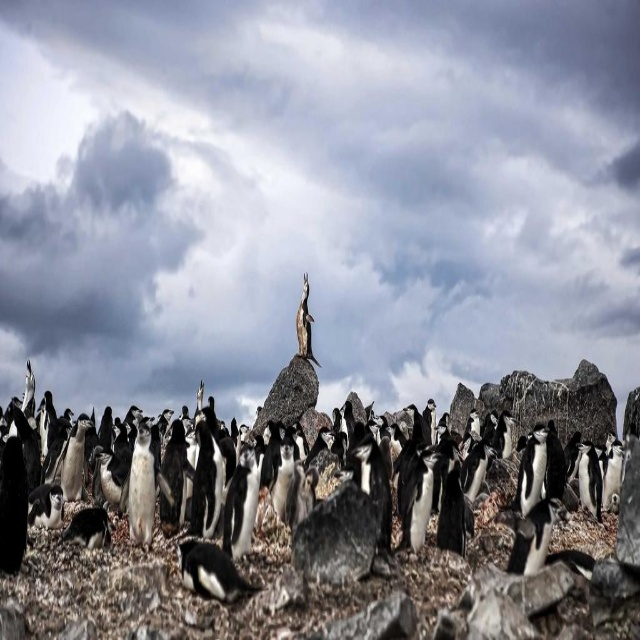Penguin: (171, 529, 255, 605), (350, 422, 392, 547), (131, 416, 172, 544), (518, 430, 560, 551), (156, 407, 192, 538), (0, 416, 29, 577), (184, 422, 224, 533), (223, 435, 258, 557), (438, 458, 476, 559), (398, 444, 433, 550), (57, 407, 90, 491), (295, 267, 320, 367), (271, 430, 297, 525), (287, 459, 316, 525), (580, 447, 602, 525), (601, 444, 625, 512), (38, 385, 60, 459), (331, 397, 356, 455), (97, 443, 120, 499), (45, 409, 69, 458), (406, 398, 426, 449), (469, 440, 487, 495), (257, 434, 274, 491), (97, 401, 114, 454), (435, 417, 452, 469), (560, 434, 579, 479), (498, 404, 511, 461), (21, 361, 37, 406), (203, 393, 218, 440), (422, 398, 433, 456), (388, 419, 402, 462), (484, 410, 498, 443), (376, 413, 388, 451), (466, 409, 480, 437), (231, 416, 241, 452)
